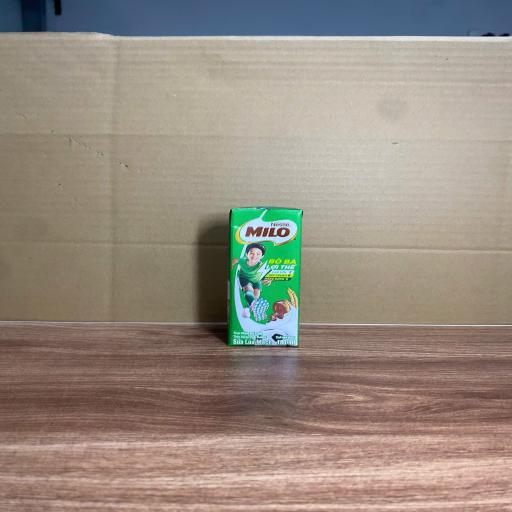milo: (224, 209, 301, 348)
